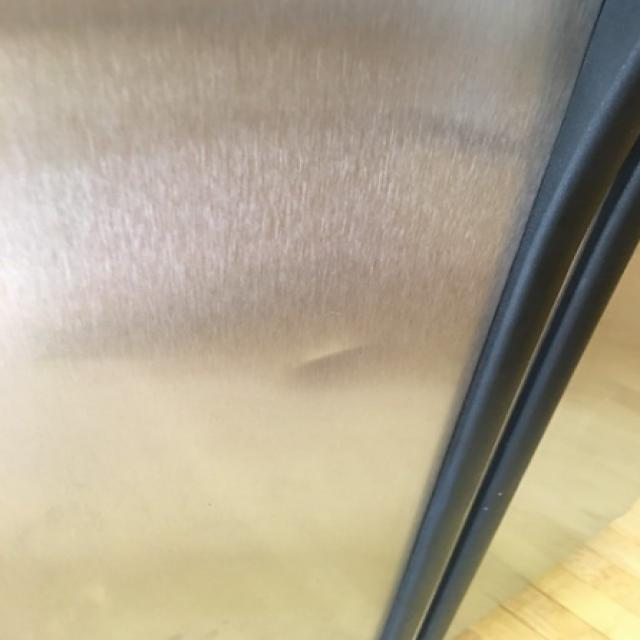dents: (302, 320, 382, 398)
